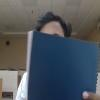notebook: (25, 29, 98, 99)
